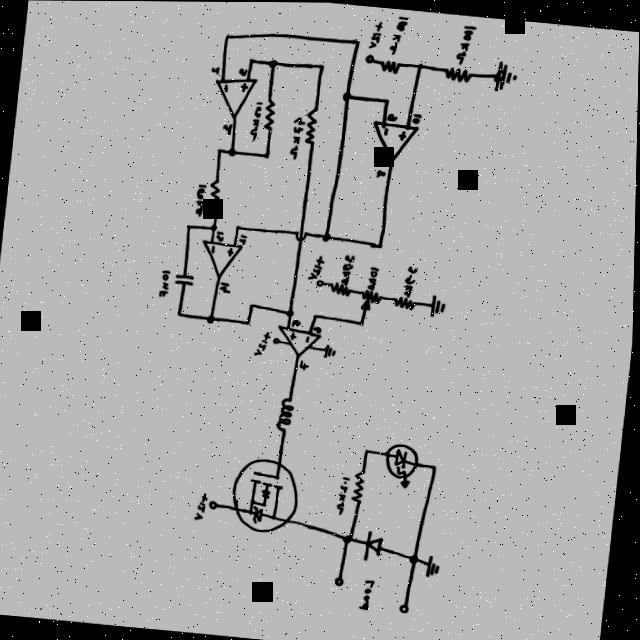capacitor: (172, 271, 196, 286)
crossover: (293, 230, 307, 242)
diode: (382, 441, 421, 491), (364, 529, 385, 561)
ground: (491, 58, 518, 93), (428, 292, 448, 318), (426, 554, 442, 577), (324, 343, 337, 359)
inductor: (277, 395, 296, 432)
junction: (342, 532, 355, 545), (409, 551, 421, 565), (340, 89, 352, 102), (320, 230, 331, 242), (205, 314, 216, 324), (380, 96, 391, 106), (430, 461, 440, 471), (414, 60, 424, 70), (226, 146, 236, 156), (267, 58, 277, 68), (285, 307, 295, 317), (362, 445, 372, 455), (209, 222, 219, 232), (352, 37, 361, 46), (262, 150, 271, 159), (221, 31, 230, 40), (374, 240, 383, 249), (357, 318, 366, 326), (316, 62, 325, 70), (184, 222, 193, 230), (233, 223, 242, 231), (311, 311, 319, 319), (248, 301, 256, 308), (176, 309, 183, 317), (216, 147, 222, 153), (247, 57, 253, 63), (245, 320, 251, 325)
resistor: (302, 106, 319, 146), (260, 98, 277, 132), (360, 288, 386, 310), (206, 179, 223, 212), (441, 65, 472, 83), (351, 469, 367, 503), (328, 279, 353, 297), (393, 294, 417, 310), (378, 58, 400, 74)
terminal: (399, 600, 412, 615), (208, 497, 219, 511), (335, 574, 346, 586), (364, 53, 374, 63), (316, 278, 325, 287), (273, 336, 281, 344)
text: (384, 14, 408, 56), (453, 23, 475, 66), (287, 114, 305, 161), (359, 576, 378, 612), (336, 475, 352, 516), (247, 99, 262, 141), (401, 262, 419, 296), (339, 251, 356, 287), (366, 18, 383, 50), (156, 267, 173, 298), (253, 330, 272, 357), (194, 491, 210, 522), (193, 183, 207, 218), (308, 254, 325, 281), (365, 264, 380, 290), (373, 167, 387, 179), (410, 111, 422, 125), (218, 281, 231, 293), (299, 359, 311, 370), (221, 122, 232, 134), (214, 230, 225, 241), (386, 111, 398, 121), (236, 66, 247, 76), (209, 64, 219, 74), (238, 82, 248, 92), (238, 233, 247, 244), (397, 129, 406, 140), (291, 318, 301, 327), (226, 247, 235, 256), (289, 331, 297, 340), (312, 326, 322, 333), (382, 126, 388, 134), (305, 334, 310, 343), (223, 83, 228, 92), (211, 243, 215, 253)
transistor: (228, 455, 303, 537)
